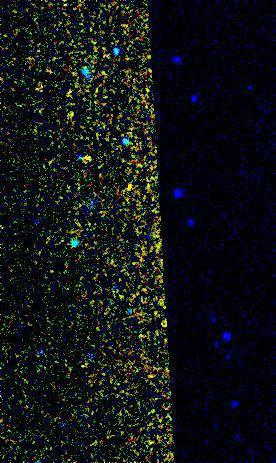star: (70, 145, 100, 175)
